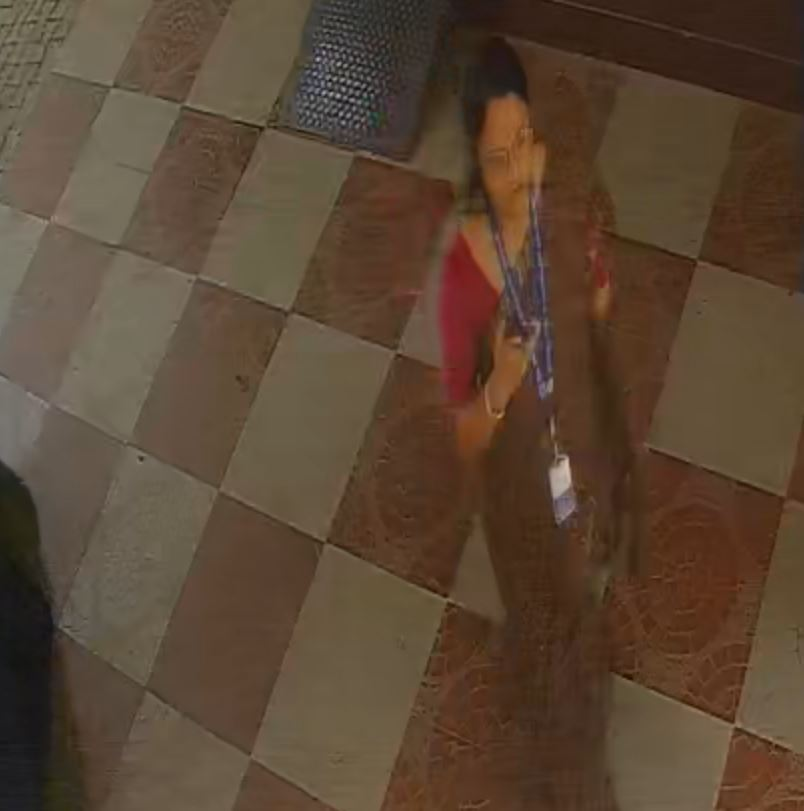not intruder: (420, 41, 649, 808)
